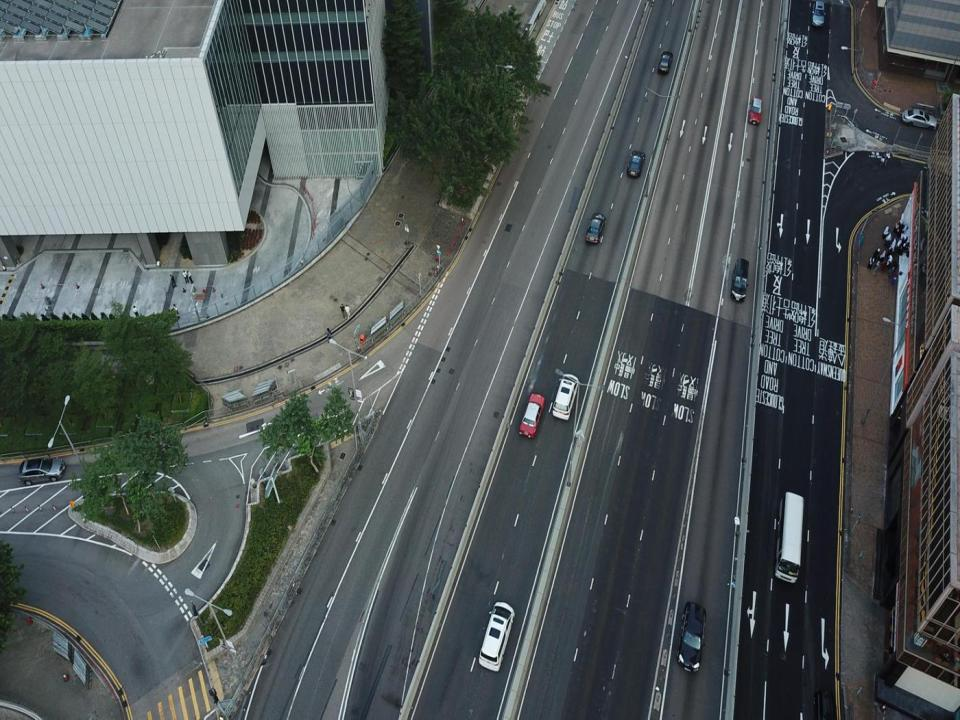bus: (775, 488, 804, 586)
car: (476, 598, 513, 672), (678, 600, 708, 669), (15, 452, 66, 484), (517, 390, 547, 437), (553, 373, 577, 422), (900, 104, 942, 127), (729, 260, 751, 302), (586, 206, 606, 252), (624, 146, 648, 179), (658, 44, 676, 78), (807, 0, 829, 27), (746, 94, 765, 123)
